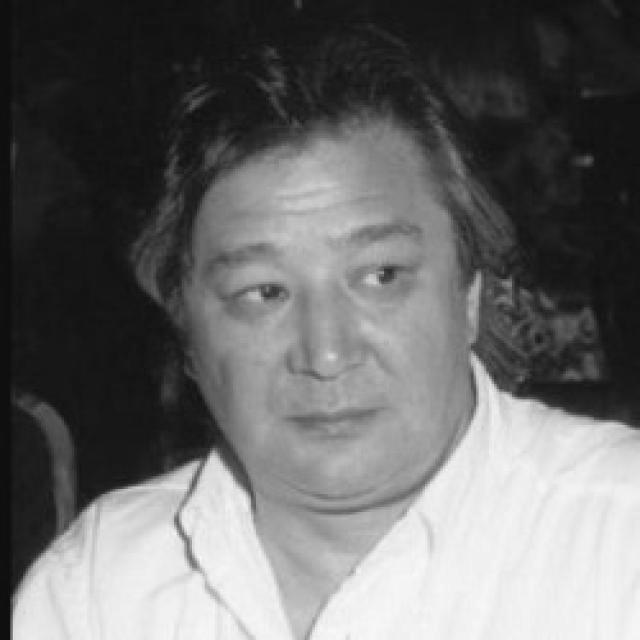real: (188, 138, 460, 502), (228, 228, 428, 322)
